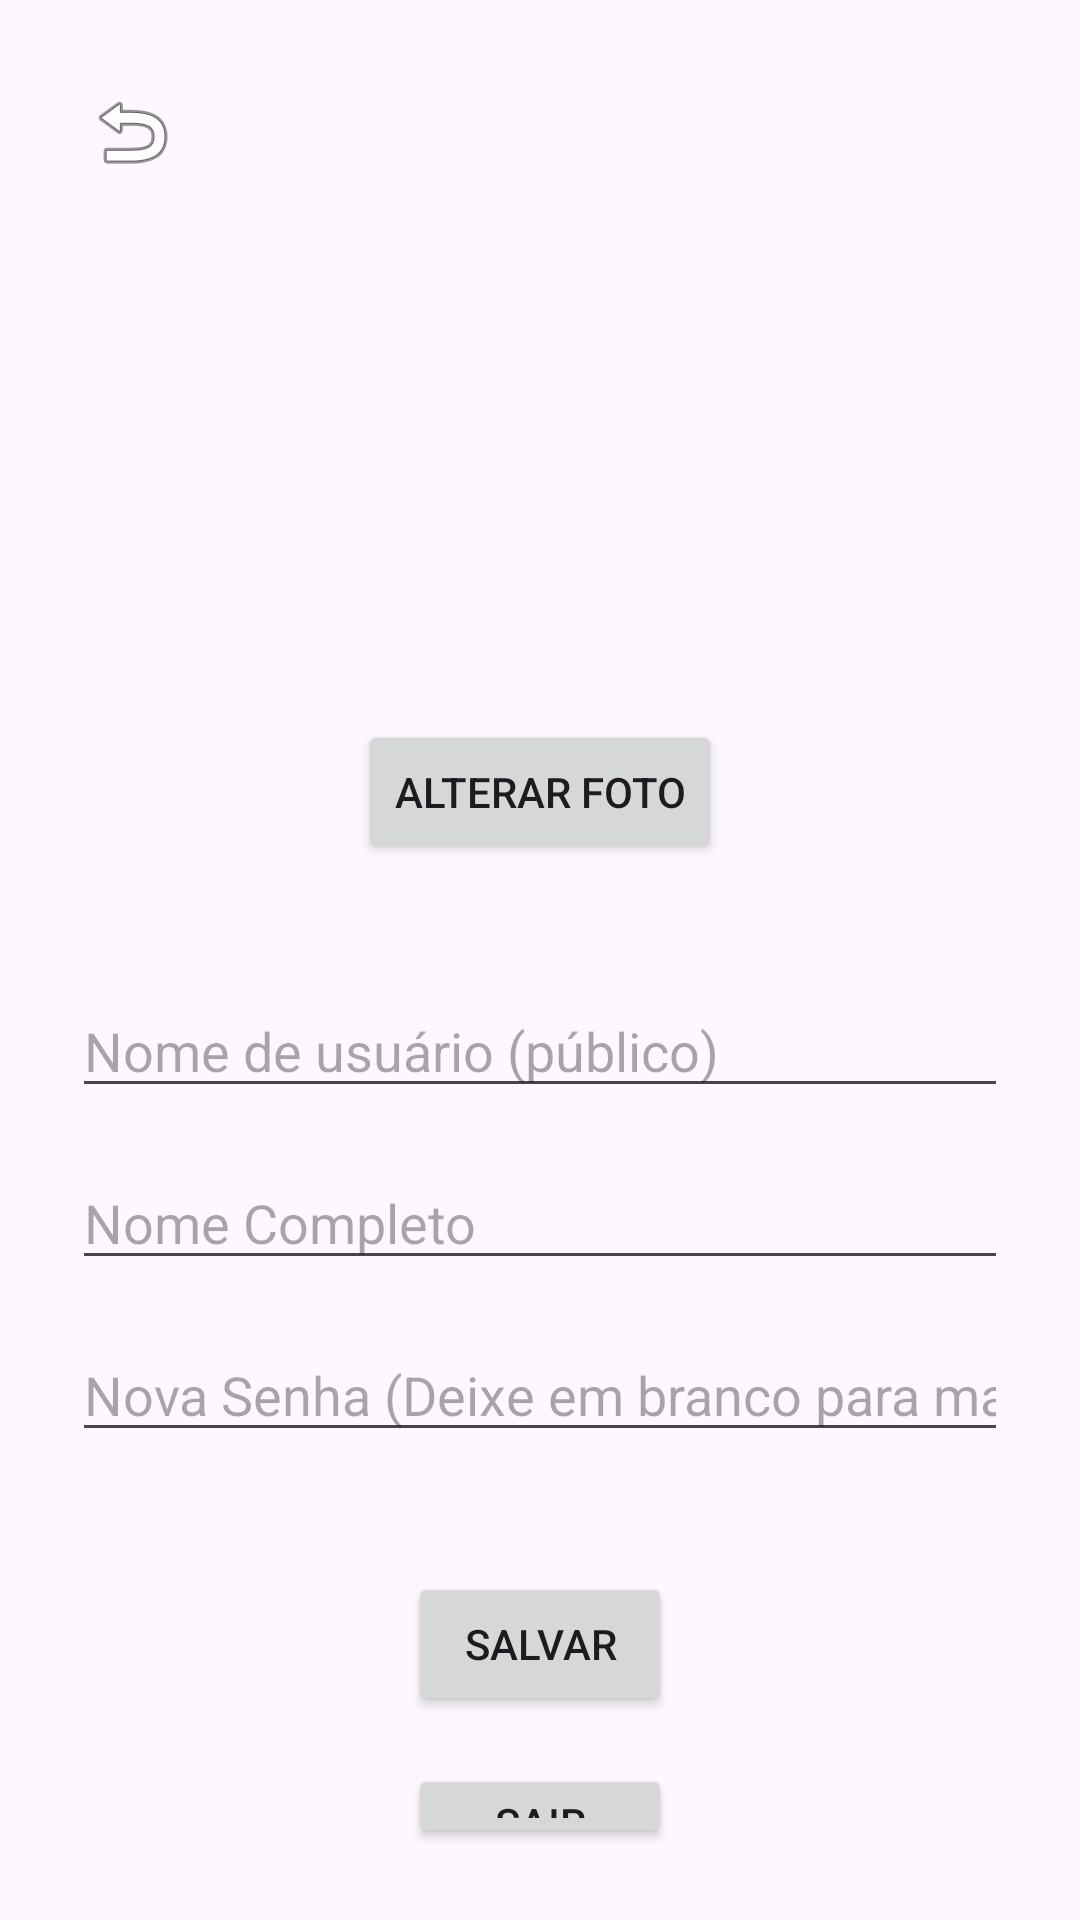

Where to tap for icons on this 1080*1920 app screen, as [x,y]:
Voltar: [133,132]
